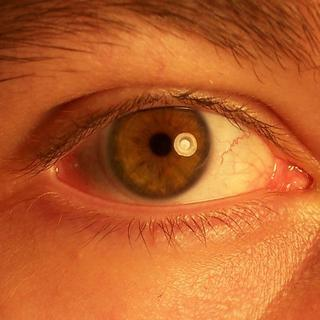pupil: (148, 132, 172, 157)
